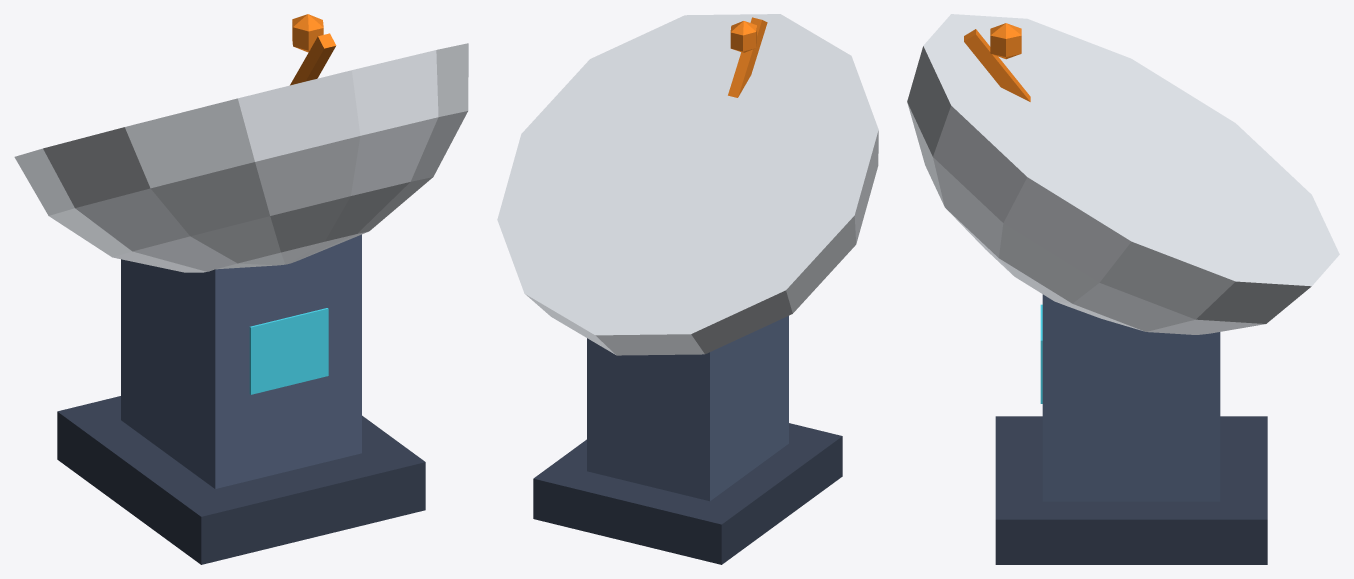
Rendered from env_r9_radar_dish.glb.
3 renders of one model, left to right at view 1: azimuth 30°, elevation 25°; view 2: azimuth 150°, elevation 25°; view 3: azimuth 270°, elevation 25°, orthographic. The views are drawn at different scales.
Visible parts, largest first — view 1: env_r9_radar_dish; view 2: env_r9_radar_dish; view 3: env_r9_radar_dish.
Boxes of the visible parts, left/top/right/bottom form: env_r9_radar_dish: left=14, top=14, right=468, bottom=564; env_r9_radar_dish: left=497, top=14, right=878, bottom=564; env_r9_radar_dish: left=907, top=14, right=1339, bottom=564.
Size of the model in its own units: 4.8 by 6 by 4.8.
Materials: 1 (1 with a texture image).
